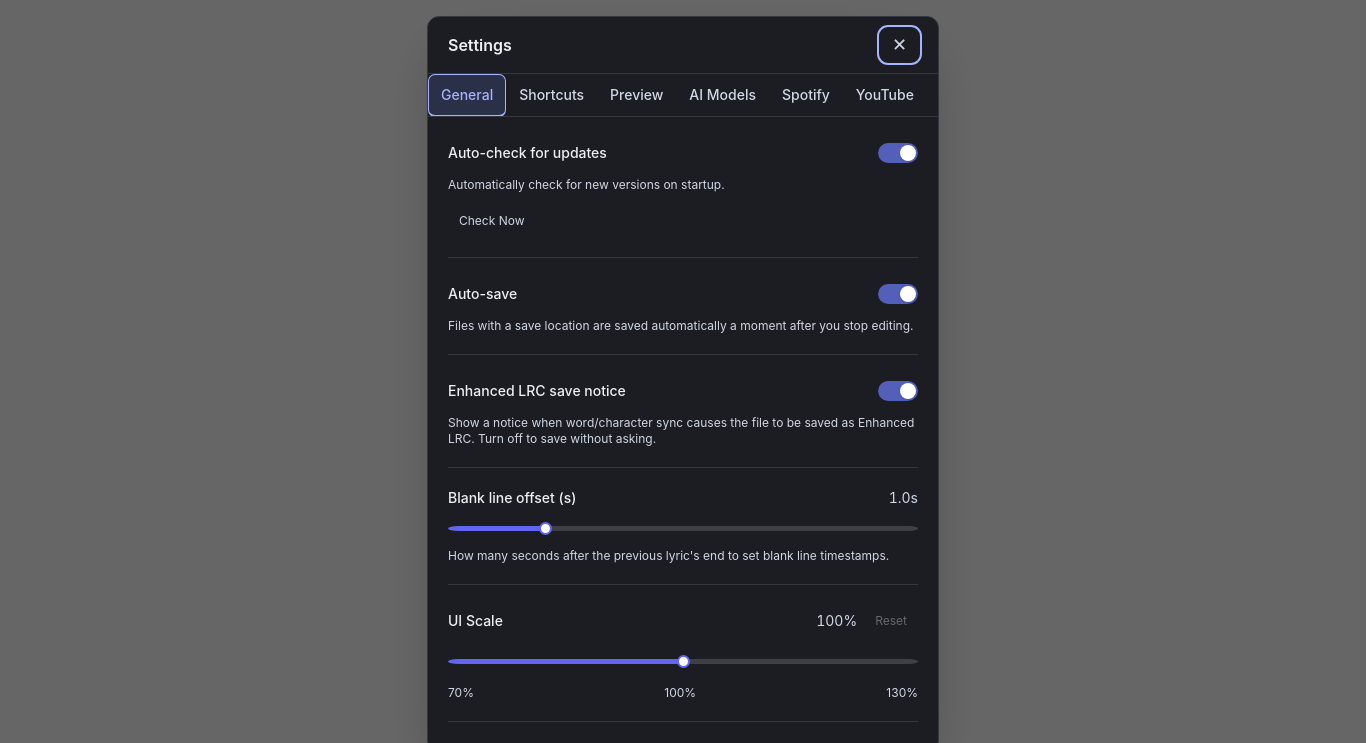
Test case: shows a retryable error instead of claiming a failed update check is current
Step 1. Click the button "Check Now" → x=492, y=221, box [448,205,536,237]
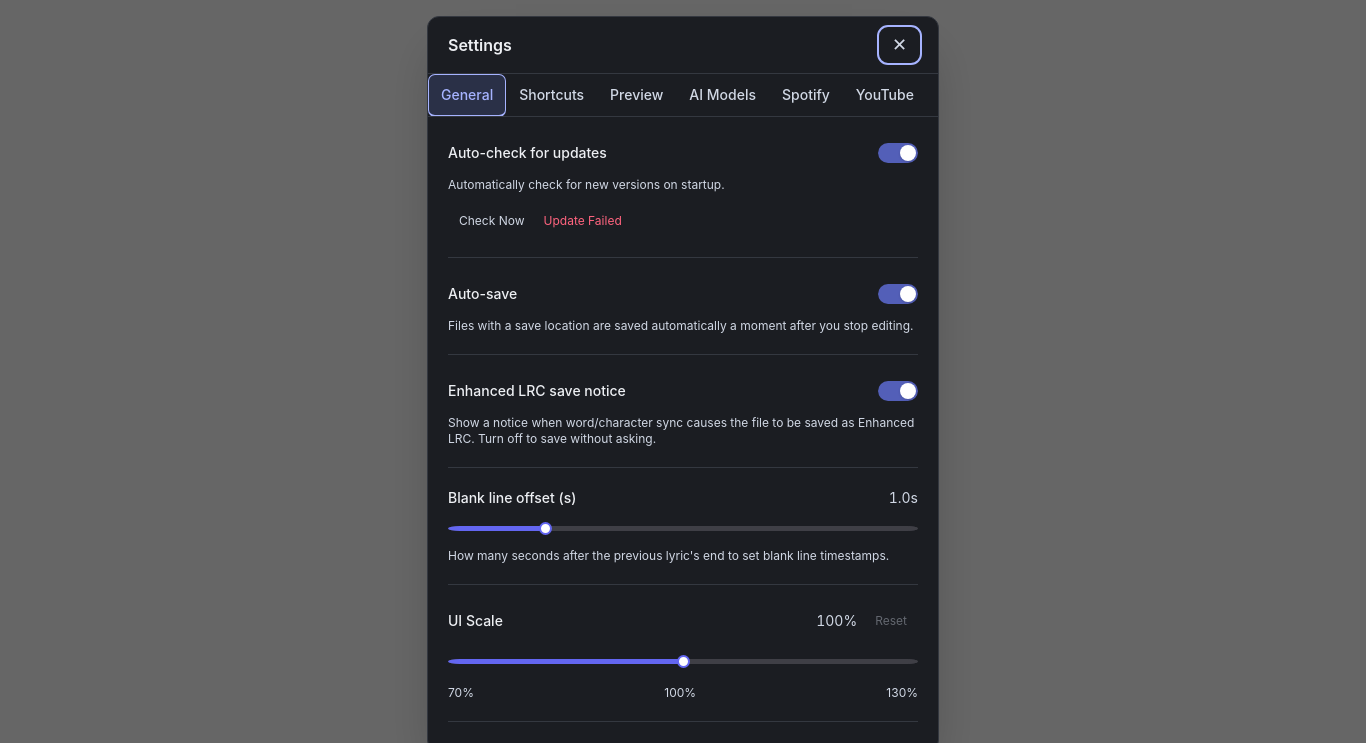
Expected: the text "You're up to date." is not shown
Now the message reads "Update Failed", box [544,213,622,228]
Step 2. Click the button "Check Now" → x=492, y=221, box [448,205,536,237]
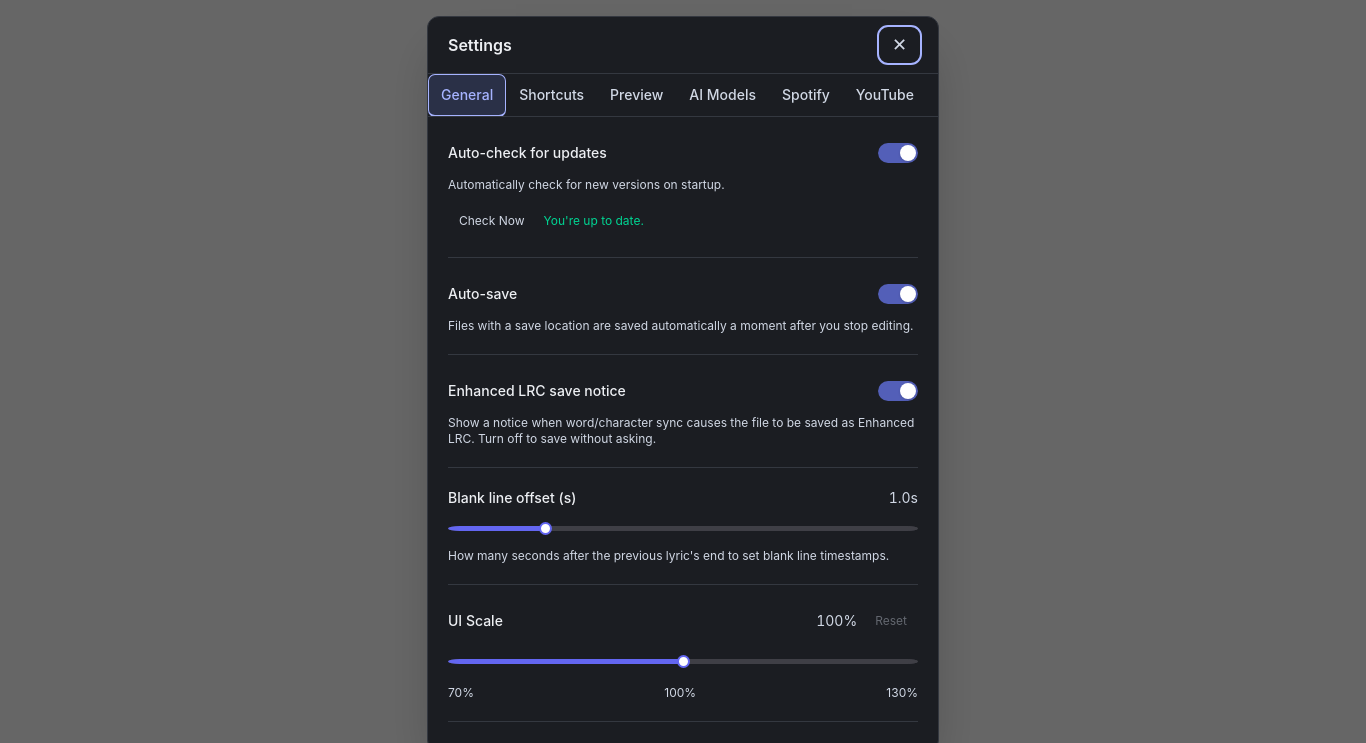
Now the message "Update Failed" is gone
Now the text "You're up to date." is shown, box [544,213,644,229]
